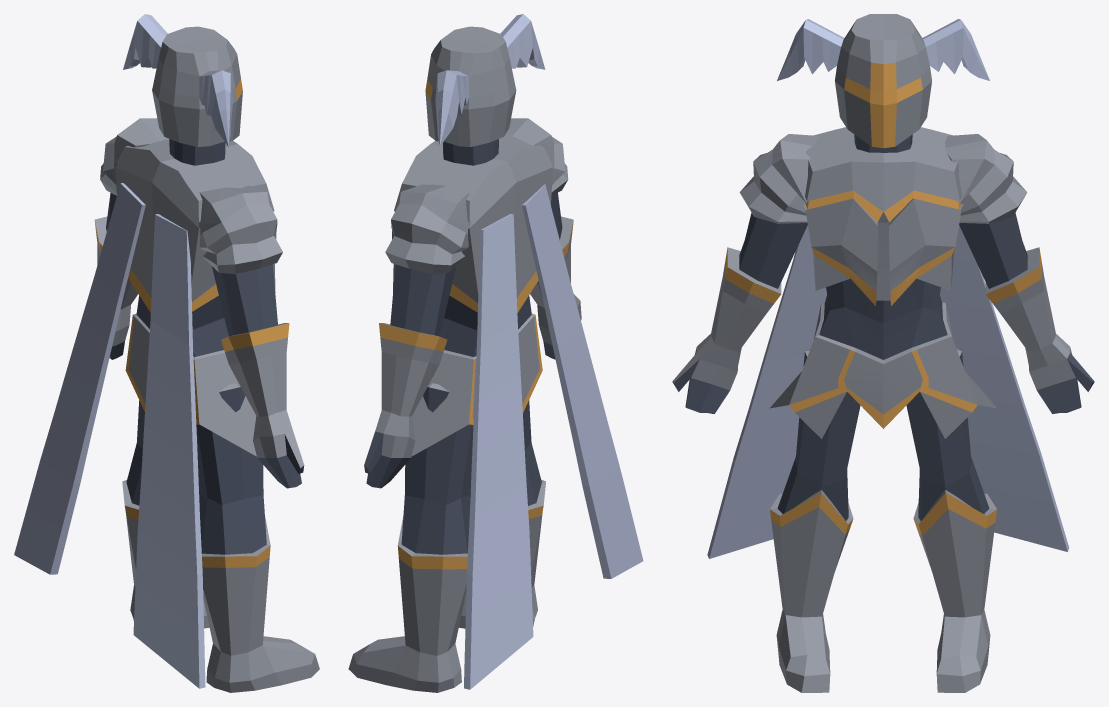
The model's file is paladin.fbx.
3 views of the same model, side by side, from view 1: azimuth 30°, elevation 25°; view 2: azimuth 150°, elevation 25°; view 3: azimuth 270°, elevation 25° (orthographic).
Parts seen in each view (by area): view 1: Plane.004, Plane, Plane.010, Plane.001, Plane.006, Plane.008, Plane.003, Plane.005, Plane.009, Plane.007; view 2: Plane.004, Plane, Plane.009, Plane.001, Plane.005, Plane.007, Plane.002, Plane.010, Plane.006, Plane.008; view 3: Plane, Plane.004, Plane.001, Plane.009, Plane.010, Plane.005, Plane.006, Plane.007, Plane.008, Plane.003, Plane.002.
Part boxes in pixels (left/top/right/bottom): Plane.004: left=14, top=183, right=205, bottom=688; Plane: left=115, top=139, right=276, bottom=456; Plane.010: left=199, top=495, right=319, bottom=692; Plane.001: left=123, top=14, right=242, bottom=146; Plane.006: left=199, top=185, right=282, bottom=336; Plane.008: left=221, top=323, right=304, bottom=488; Plane.003: left=196, top=383, right=263, bottom=504; Plane.005: left=100, top=118, right=168, bottom=231; Plane.009: left=122, top=443, right=209, bottom=628; Plane.007: left=94, top=216, right=138, bottom=359; Plane.004: left=464, top=184, right=643, bottom=689; Plane: left=392, top=132, right=552, bottom=569; Plane.009: left=348, top=494, right=470, bottom=692; Plane.001: left=425, top=14, right=545, bottom=146; Plane.005: left=385, top=184, right=469, bottom=336; Plane.007: left=364, top=323, right=447, bottom=488; Plane.002: left=405, top=383, right=473, bottom=504; Plane.010: left=459, top=443, right=545, bottom=628; Plane.006: left=507, top=118, right=568, bottom=240; Plane.008: left=530, top=216, right=581, bottom=359; Plane: left=770, top=127, right=996, bottom=438; Plane.004: left=707, top=225, right=1069, bottom=558; Plane.001: left=777, top=14, right=989, bottom=148; Plane.009: left=913, top=457, right=996, bottom=692; Plane.010: left=770, top=457, right=853, bottom=692; Plane.005: left=944, top=134, right=1027, bottom=288; Plane.006: left=739, top=134, right=818, bottom=288; Plane.007: left=985, top=247, right=1094, bottom=413; Plane.008: left=672, top=247, right=781, bottom=413; Plane.003: left=691, top=349, right=860, bottom=487; Plane.002: left=906, top=349, right=971, bottom=487.
Bounding box in the file's own units: 175 × 556 × 340.
